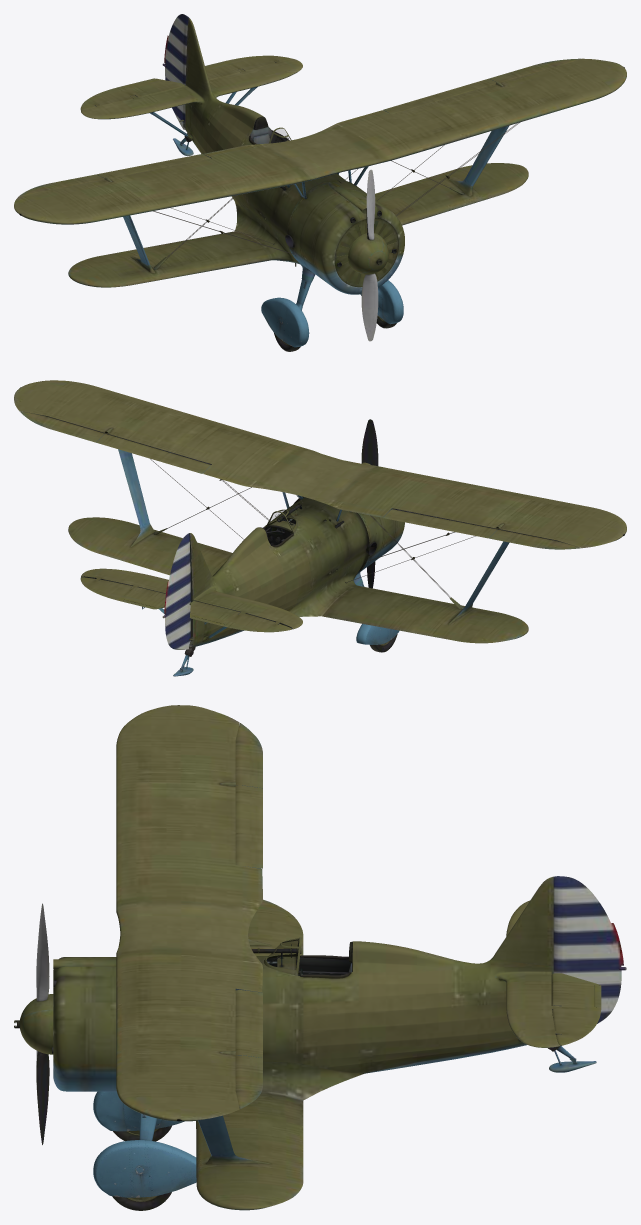
Rendered from taiwanese_i-15bis_animated.glb.
3 renders of one model, top to bottom at view 1: azimuth 30°, elevation 25°; view 2: azimuth 150°, elevation 25°; view 3: azimuth 270°, elevation 25°, orthographic. The views are drawn at different scales.
Parts seen in each view (by area): view 1: Object_8, Object_11, Object_9, Object_12, Object_10, Object_7, PropellerBlades, PropellerHub, Object_13; view 2: Object_8, Object_11, Object_9, Object_12, Object_10, PropellerBlades, Object_13, Object_7; view 3: Object_8, Object_11, Object_9, Object_7, Object_12, Object_10, PropellerBlades, PropellerHub.
Part boxes in pixels (x1,y1,x2,y2): Object_8: [14, 58, 626, 351]; Object_11: [215, 106, 404, 294]; Object_9: [81, 14, 396, 328]; Object_12: [19, 55, 291, 195]; Object_10: [173, 58, 581, 287]; Object_7: [261, 279, 403, 347]; PropellerBlades: [361, 169, 378, 341]; PropellerHub: [348, 233, 388, 274]; Object_13: [153, 122, 519, 257]; Object_8: [14, 380, 626, 652]; Object_11: [225, 462, 404, 616]; Object_9: [81, 533, 302, 649]; Object_12: [80, 509, 581, 632]; Object_10: [19, 411, 311, 676]; PropellerBlades: [361, 419, 378, 588]; Object_13: [150, 459, 475, 597]; Object_7: [356, 583, 399, 644]; Object_8: [113, 705, 303, 1210]; Object_11: [52, 937, 416, 1100]; Object_9: [112, 876, 625, 1210]; Object_7: [93, 1091, 196, 1197]; Object_12: [235, 723, 601, 1045]; Object_10: [235, 947, 596, 1109]; PropellerBlades: [36, 903, 49, 1144]; PropellerHub: [14, 994, 53, 1054].
Size of the model in its own units: 10.06 by 3.39 by 6.28.
Materials: 8 (5 with a texture image).
